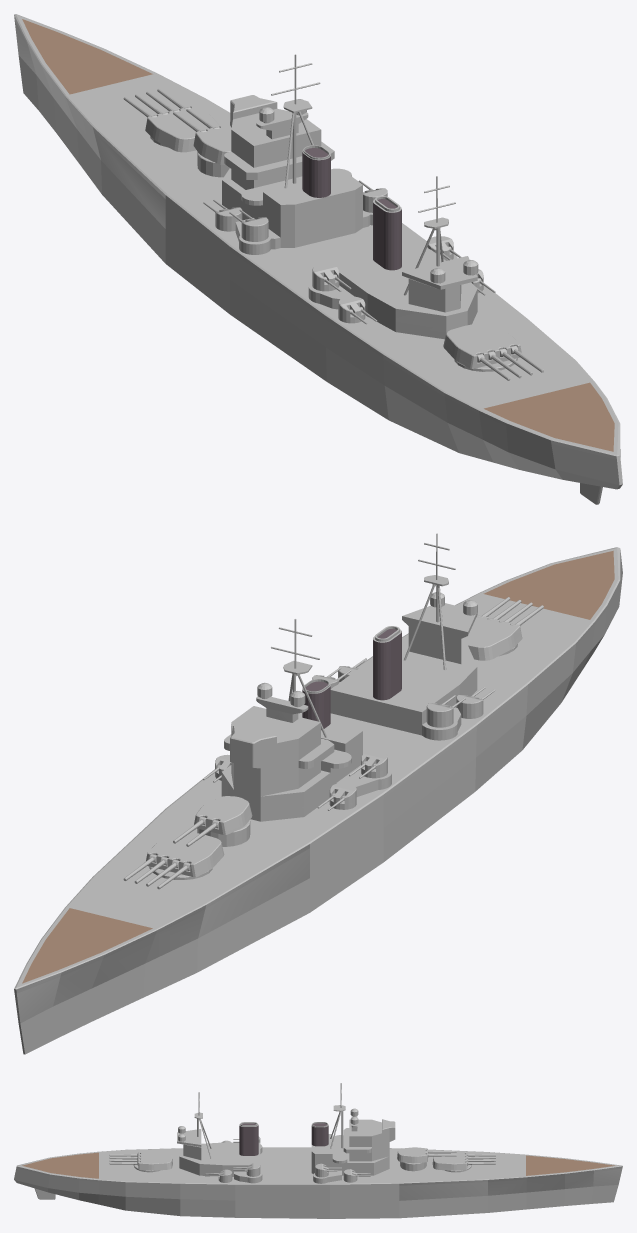
File: big_classic3.fbx
The picture shows the model from 3 angles, top to bottom: view 1: azimuth 30°, elevation 25°; view 2: azimuth 150°, elevation 25°; view 3: azimuth 270°, elevation 25°; orthographic projection. The views are drawn at different scales.
Visible parts, largest first — view 1: big_classic3; view 2: big_classic3; view 3: big_classic3.
Boxes of the visible parts, x1,y1,x2,y2 form: big_classic3: (14,14,622,504); big_classic3: (14,533,622,1054); big_classic3: (14,1083,622,1218).
Bounding box in the file's own units: 1035 × 1537 × 7068.
